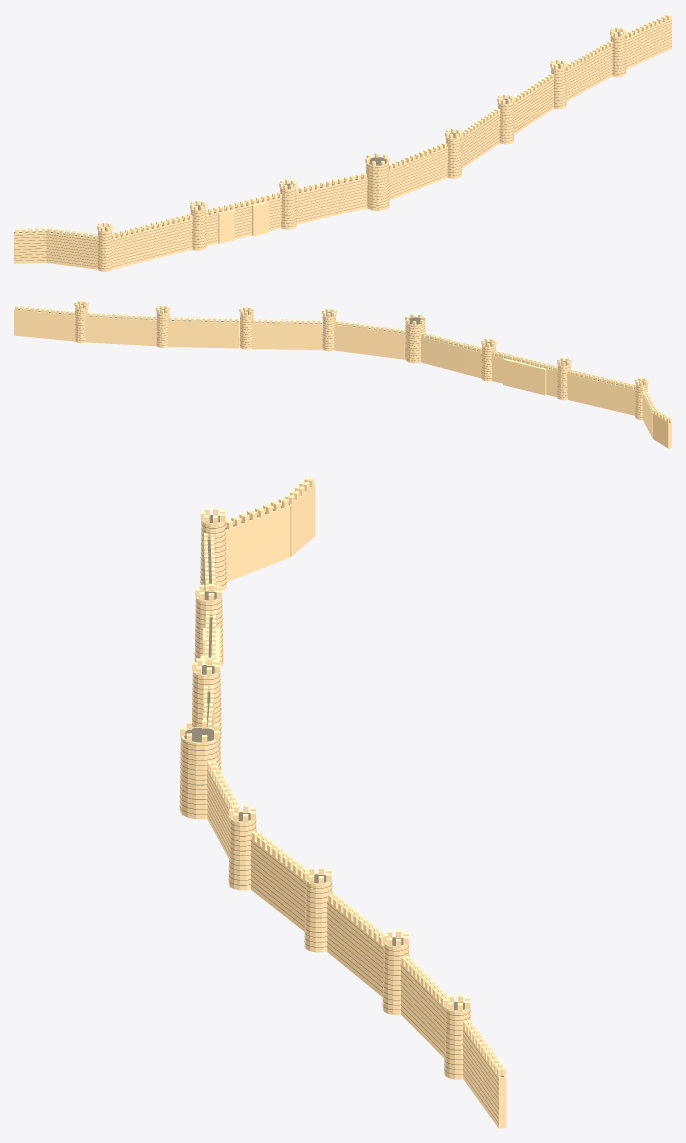
The model's file is bak_old_city_wall.glb.
3 views of the same model, one above another, from view 1: azimuth 30°, elevation 25°; view 2: azimuth 150°, elevation 25°; view 3: azimuth 270°, elevation 25° (orthographic). The views are drawn at different scales.
Parts seen in each view (by area): view 1: baku-old-city-wall; view 2: baku-old-city-wall; view 3: baku-old-city-wall.
Boxes of the visible parts, x1,y1,x2,y2 form: baku-old-city-wall: (14, 14, 671, 271); baku-old-city-wall: (14, 300, 671, 448); baku-old-city-wall: (179, 477, 506, 1128).
Size of the model in its own units: 236 by 15.2 by 54.74.
